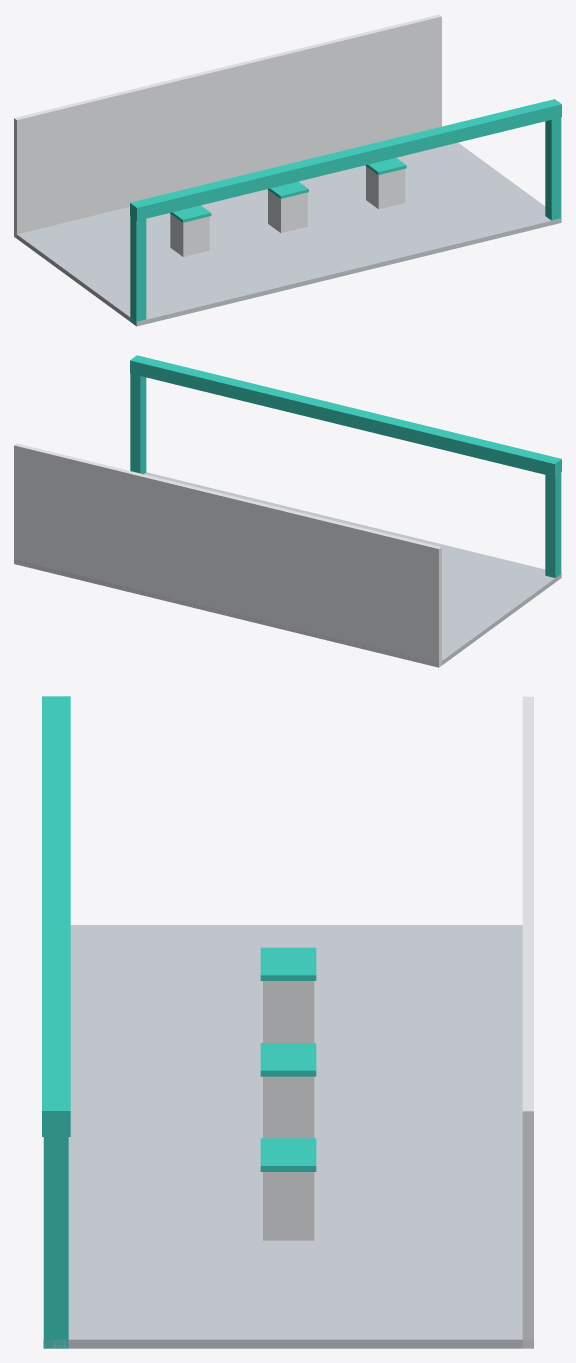
3 renders of one model, top to bottom at view 1: azimuth 30°, elevation 25°; view 2: azimuth 150°, elevation 25°; view 3: azimuth 270°, elevation 25°, orthographic. The views are drawn at different scales.
Parts seen in each view (by area): view 1: Exhibition Booth Concept; view 2: Exhibition Booth Concept; view 3: Exhibition Booth Concept.
Part boxes in pixels (x1,y1,x2,y2): Exhibition Booth Concept: [14, 14, 561, 326]; Exhibition Booth Concept: [14, 355, 561, 667]; Exhibition Booth Concept: [42, 696, 533, 1348].
Size of the model in its own units: 12 by 3.2 by 6.02.
